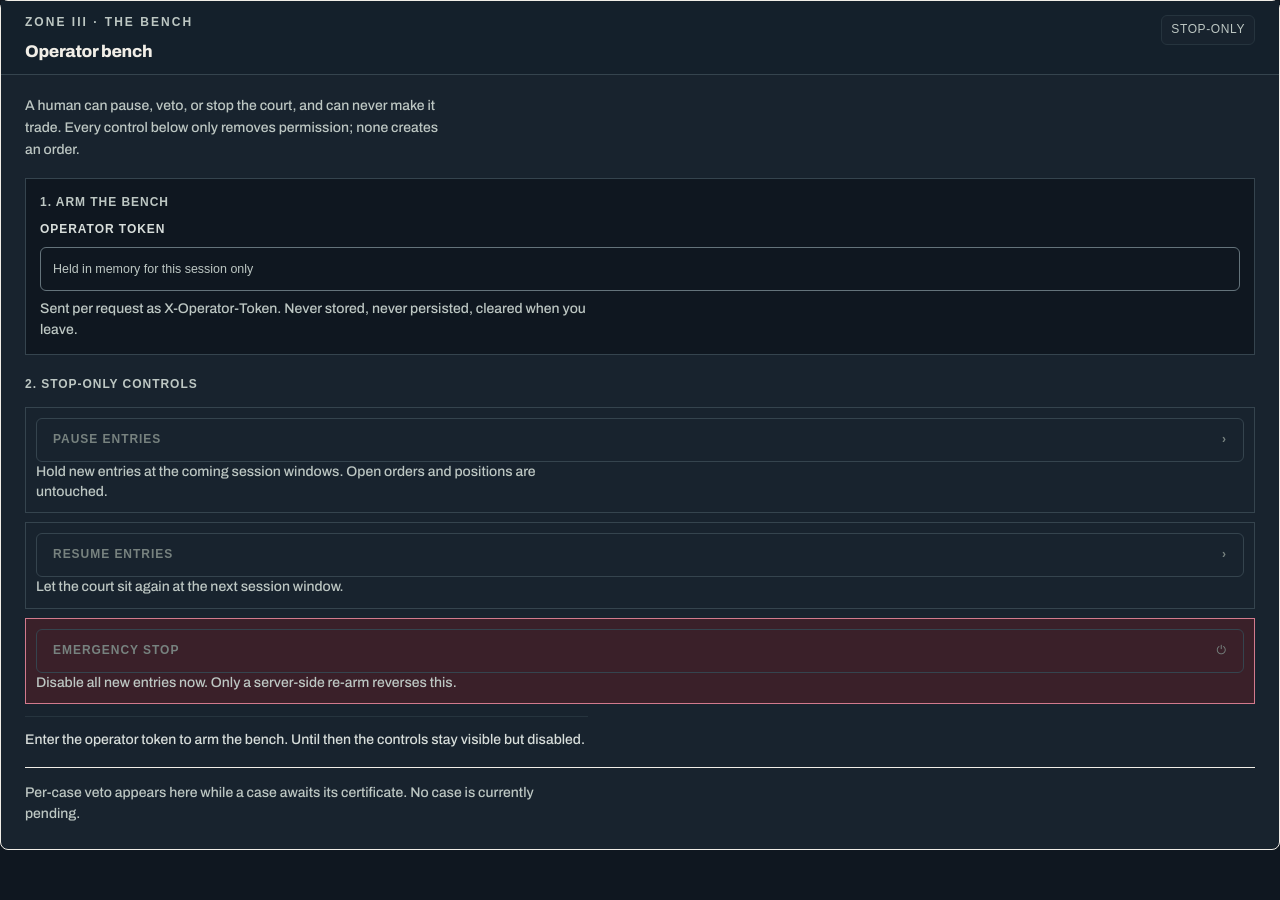
Test: operator bench › surfaces a refused token (401) as a visible error
This screenshot has width=1280, height=900.
Type "wrong" into the password field labelled "Operator token" at (640, 269), box [40,247,1240,291]
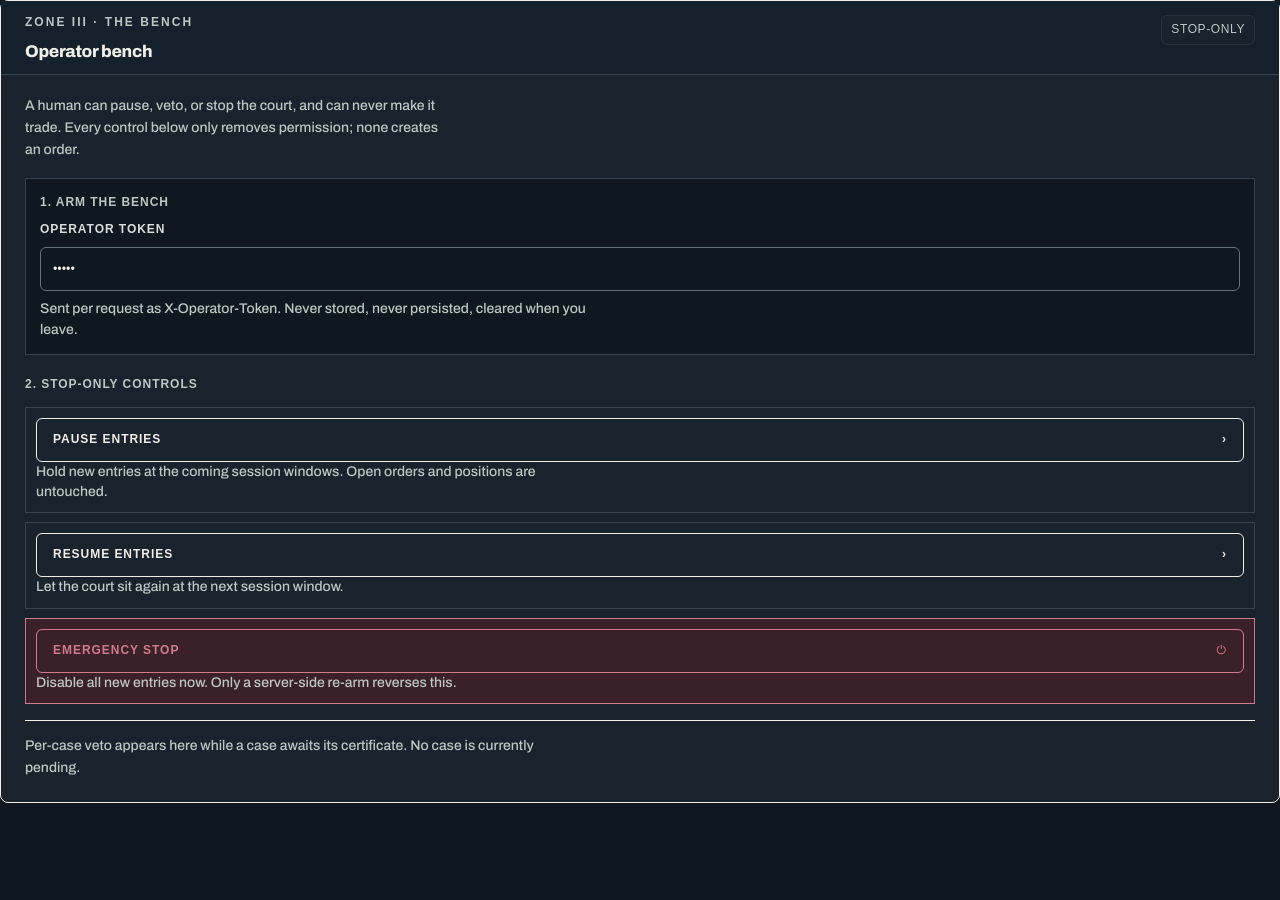
Click the button "Emergency stop ⏻" at (116, 650), box [36,629,1244,673]
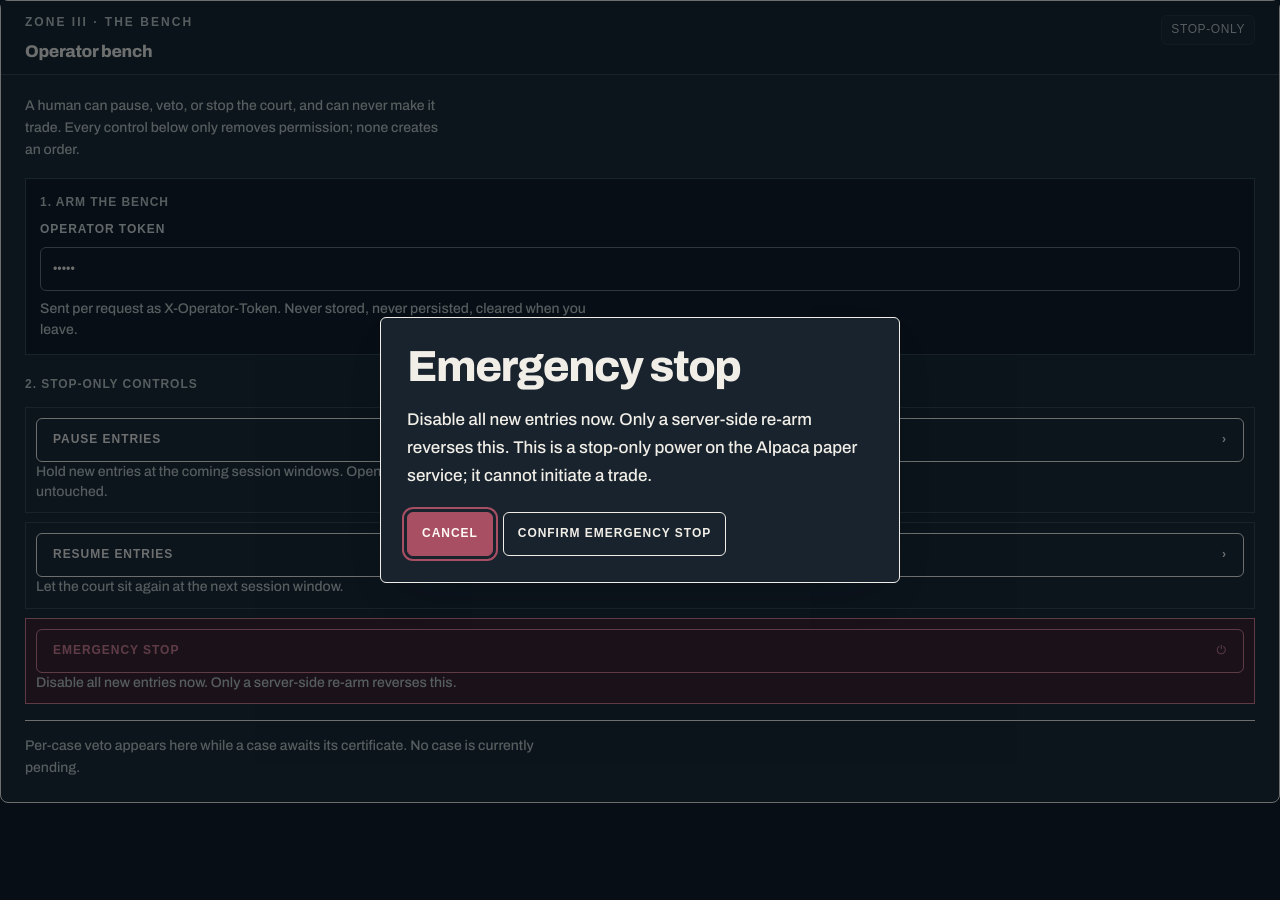
Click the button "Confirm Emergency stop" at (614, 534), box [503,512,726,556]
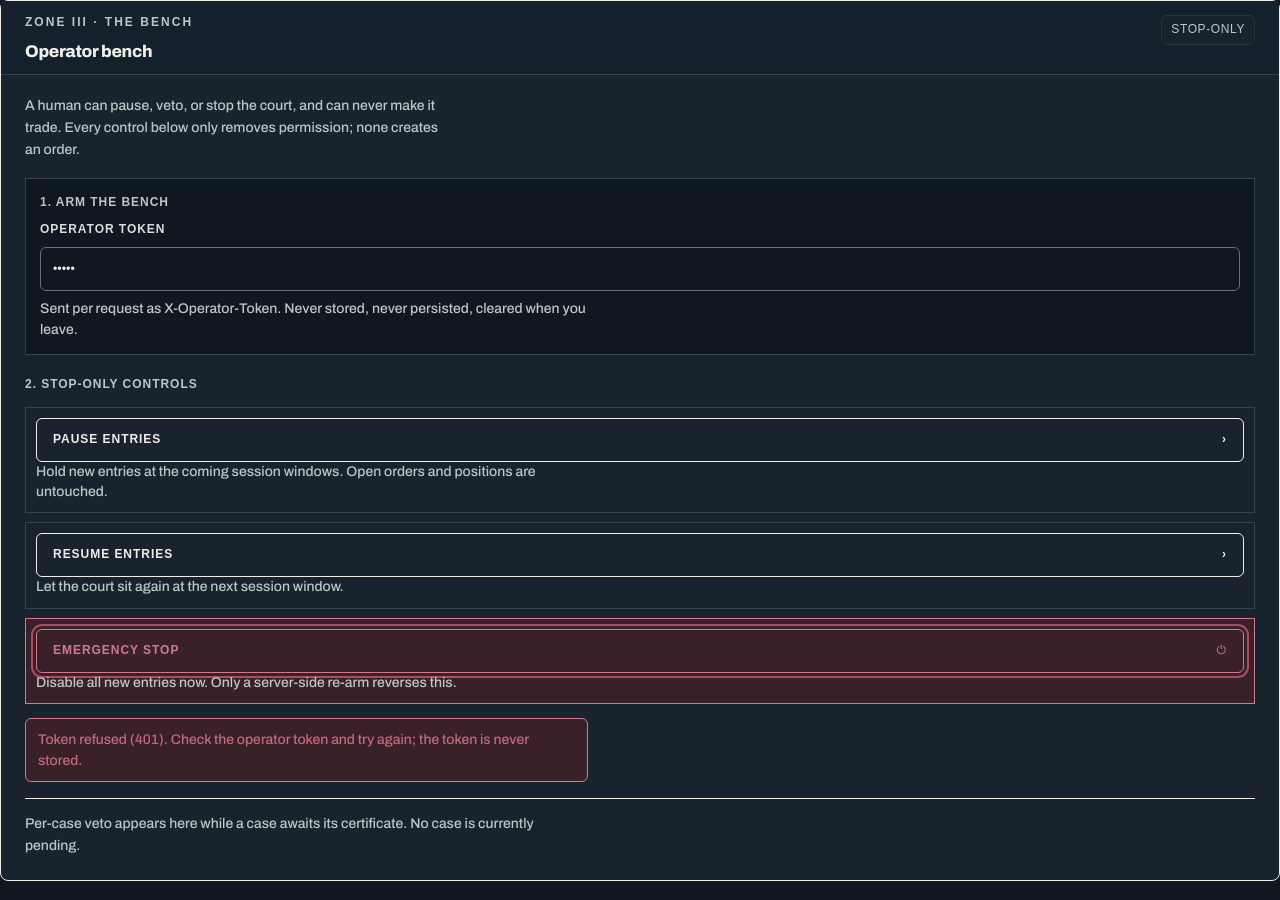
Expected: the message shows "Token refused (401)", [38,732,529,768]
